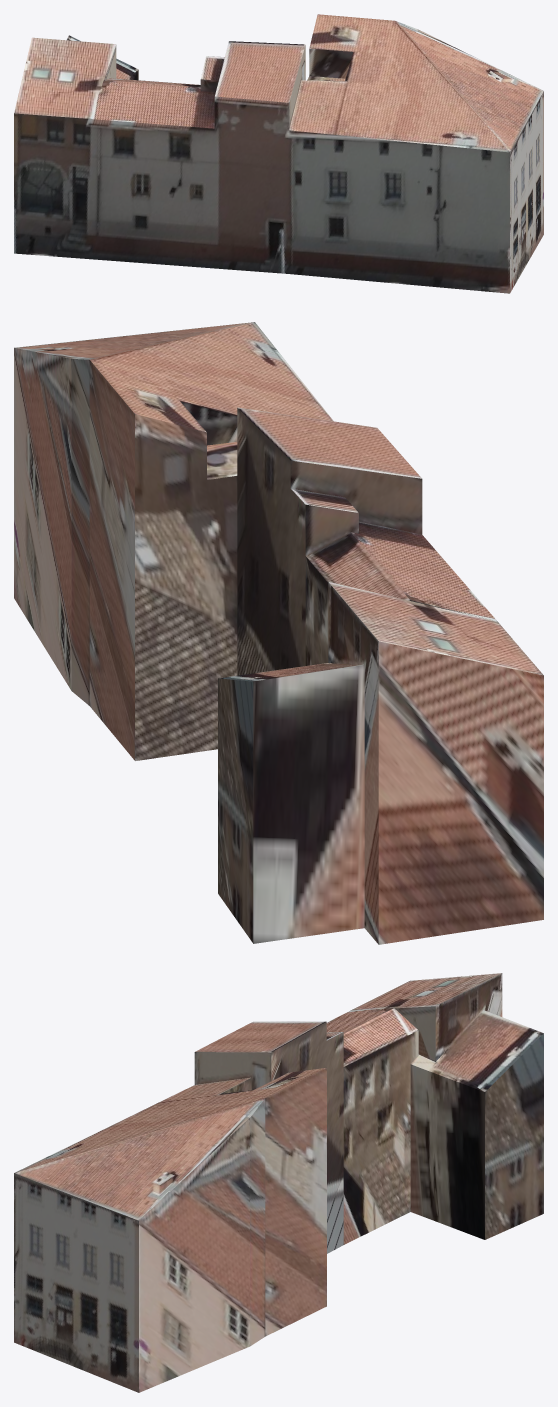
The picture shows the model from 3 angles, top to bottom: view 1: azimuth 30°, elevation 25°; view 2: azimuth 150°, elevation 25°; view 3: azimuth 270°, elevation 25°; orthographic projection. The views are drawn at different scales.
Visible parts, largest first — view 1: Z_UP; view 2: Z_UP; view 3: Z_UP.
Boxes of the visible parts, x1,y1,x2,y2 form: Z_UP: [14, 14, 543, 293]; Z_UP: [14, 322, 543, 944]; Z_UP: [14, 973, 543, 1392].
Bounding box in the file's own units: 35.93 × 16.38 × 32.97.
2 materials, 1 textured.
